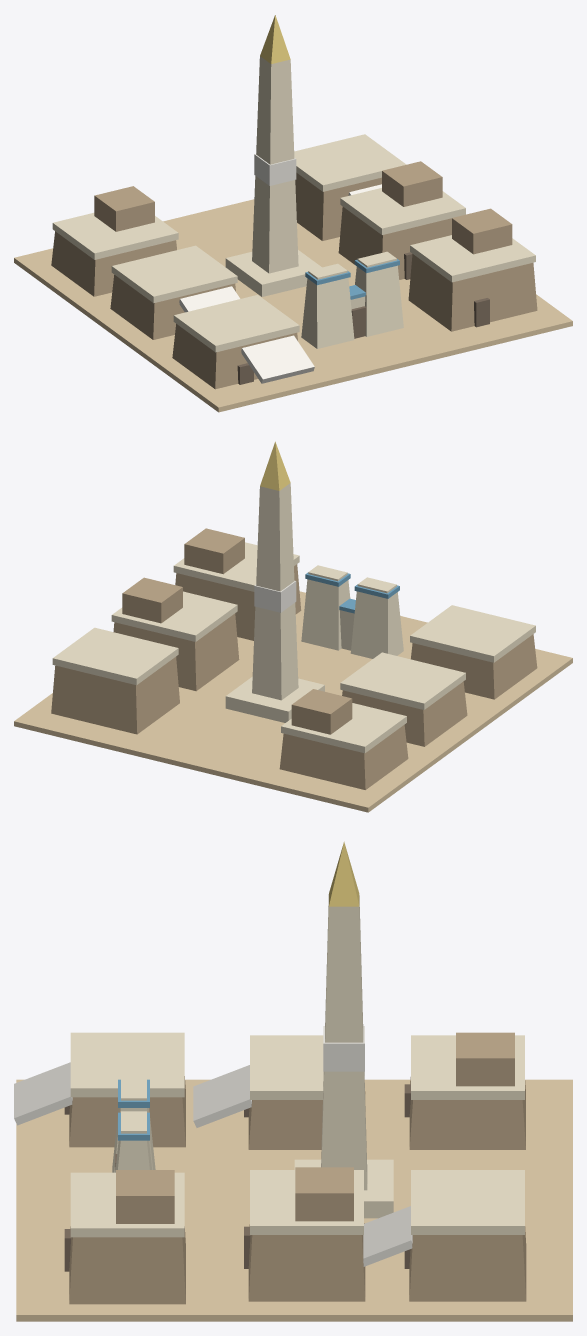
Rendered from town.glb.
3 views of the same model, one above another, from view 1: azimuth 30°, elevation 25°; view 2: azimuth 150°, elevation 25°; view 3: azimuth 270°, elevation 25° (orthographic). The views are drawn at different scales.
Visible parts, largest first — view 1: egyptian_town; view 2: egyptian_town; view 3: egyptian_town.
Part boxes in pixels (x1,y1,x2,y2): egyptian_town: (14, 15, 572, 412); egyptian_town: (14, 441, 572, 812); egyptian_town: (14, 841, 572, 1321).
Size of the model in its own units: 0.9 by 0.647 by 0.9038.
